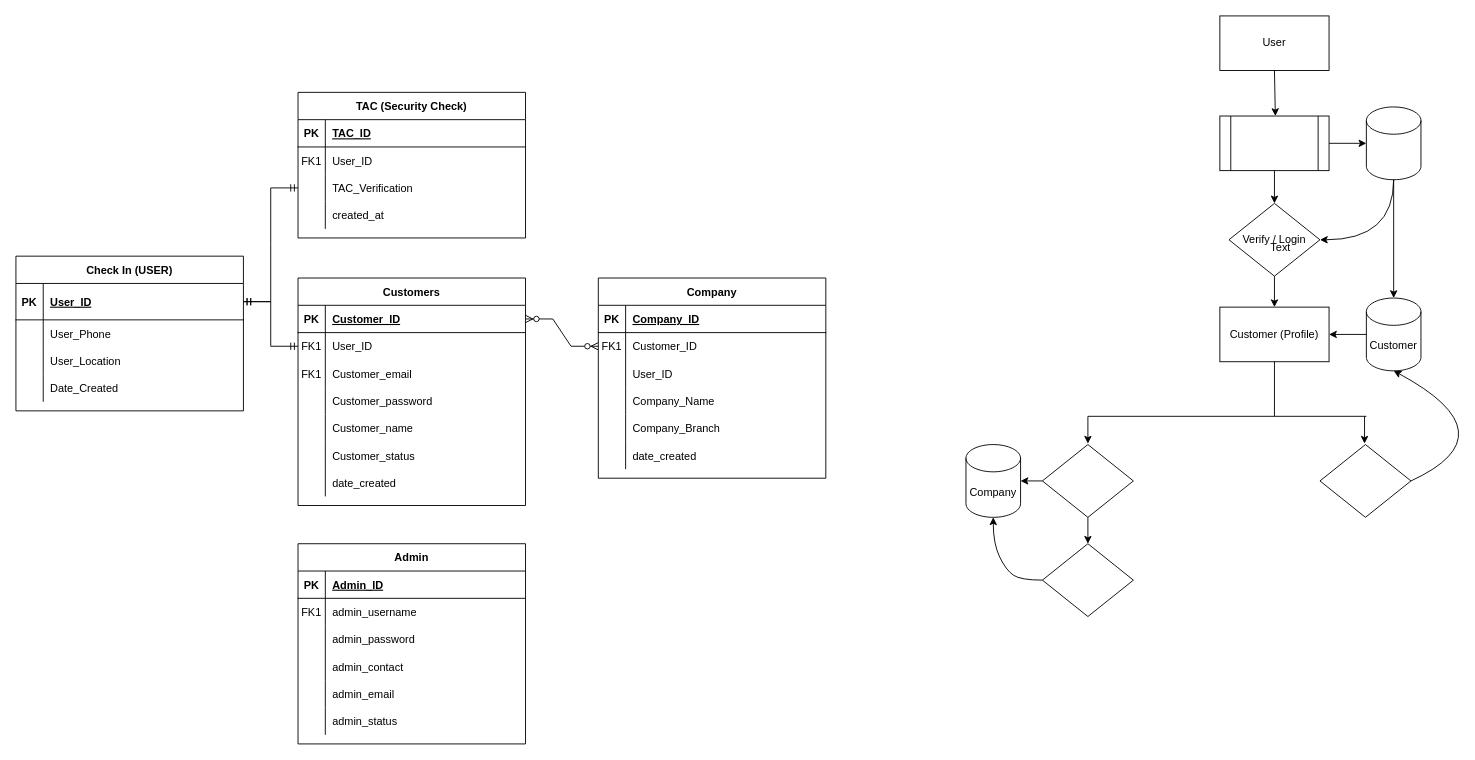
This 1475x760 diagram has some shape labels left out. Here are the shapes that lost their labels. From the top down, the centre of each, then its label:
At point (1274, 143): "Input Name and Tel".
At point (1393, 143): "User TAC".
At point (1087, 480): "Check In".
At point (1365, 480): "Activities".
At point (1087, 580): "Vouchers".
